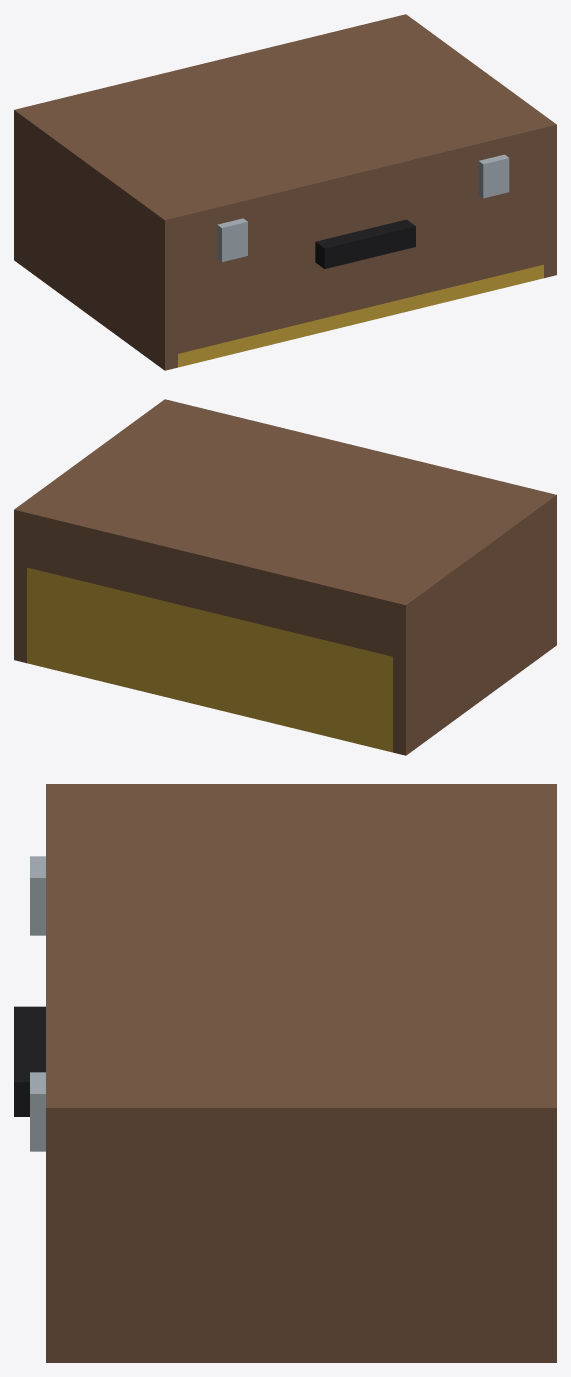
Rendered from GI_Suitcase_01.glb.
3 renders of one model, top to bottom at view 1: azimuth 30°, elevation 25°; view 2: azimuth 150°, elevation 25°; view 3: azimuth 270°, elevation 25°, orthographic. The views are drawn at different scales.
Visible parts, largest first — view 1: Lid, GI_Suitcase_01; view 2: Lid, GI_Suitcase_01; view 3: Lid, GI_Suitcase_01.
Part boxes in pixels (box(x1,y1,x2,y2)): Lid: box(14, 14, 556, 274); GI_Suitcase_01: box(14, 165, 556, 370); Lid: box(14, 399, 556, 659); GI_Suitcase_01: box(14, 550, 556, 755); Lid: box(30, 784, 556, 1200); GI_Suitcase_01: box(14, 1006, 556, 1362).
Size of the model in its own units: 0.6 by 0.22 by 0.425.
1 material, 1 textured.
